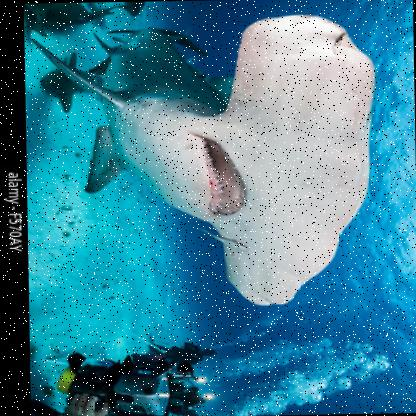hammerhead_Shark: (22, 10, 387, 320)
